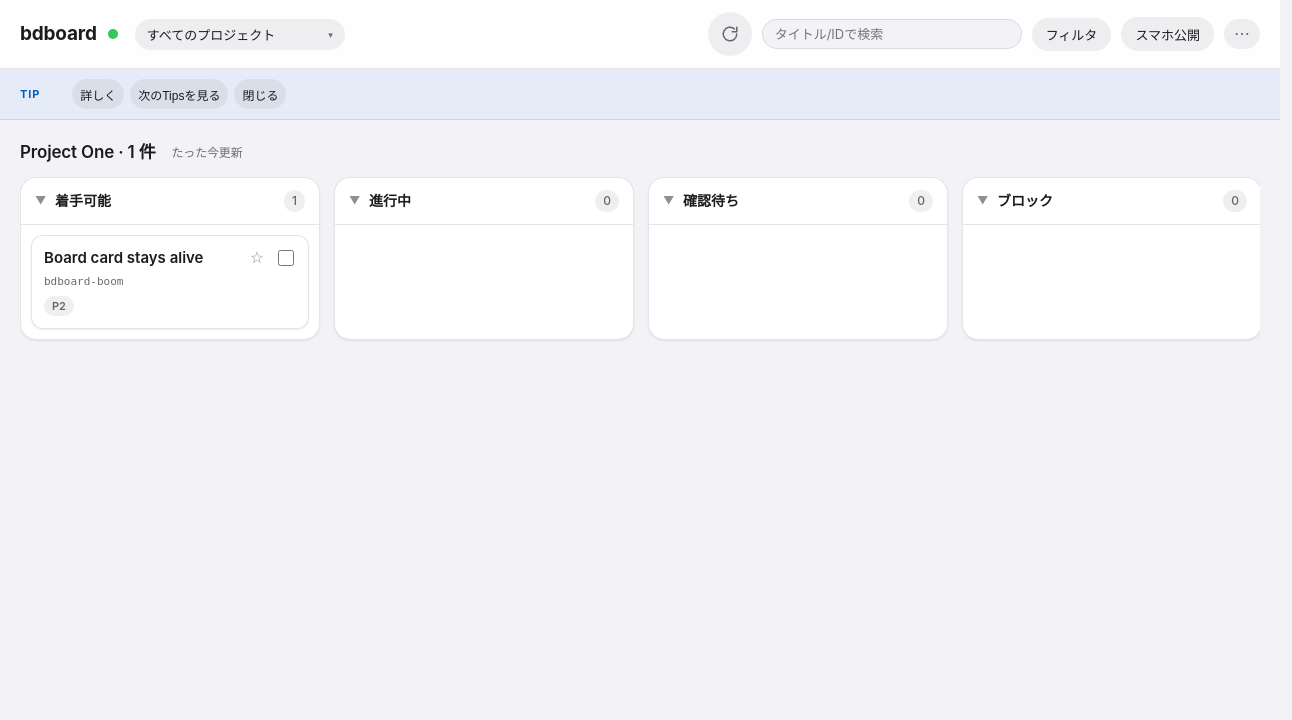
Scenario: App bulk action bar visibility (bdboard-ml0k) › keeps the bar out of the 設定 view, which renders no cards
Click the checkbox named "bdboard-boom を選択" at (286, 258), box [278,250,294,266]
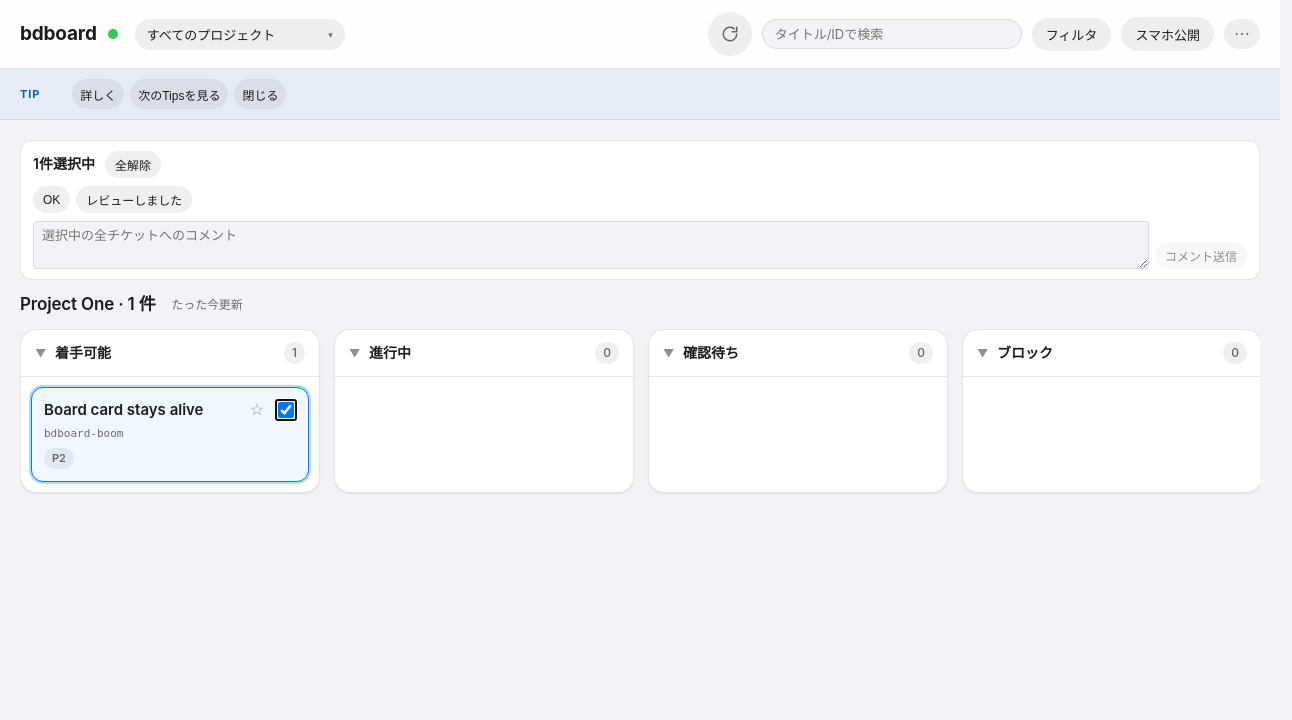
expect the text "1件選択中" is shown: met, box [33,154,95,175]
Click the button named "その他のメニュー" at (1242, 34), box [1224,19,1260,49]
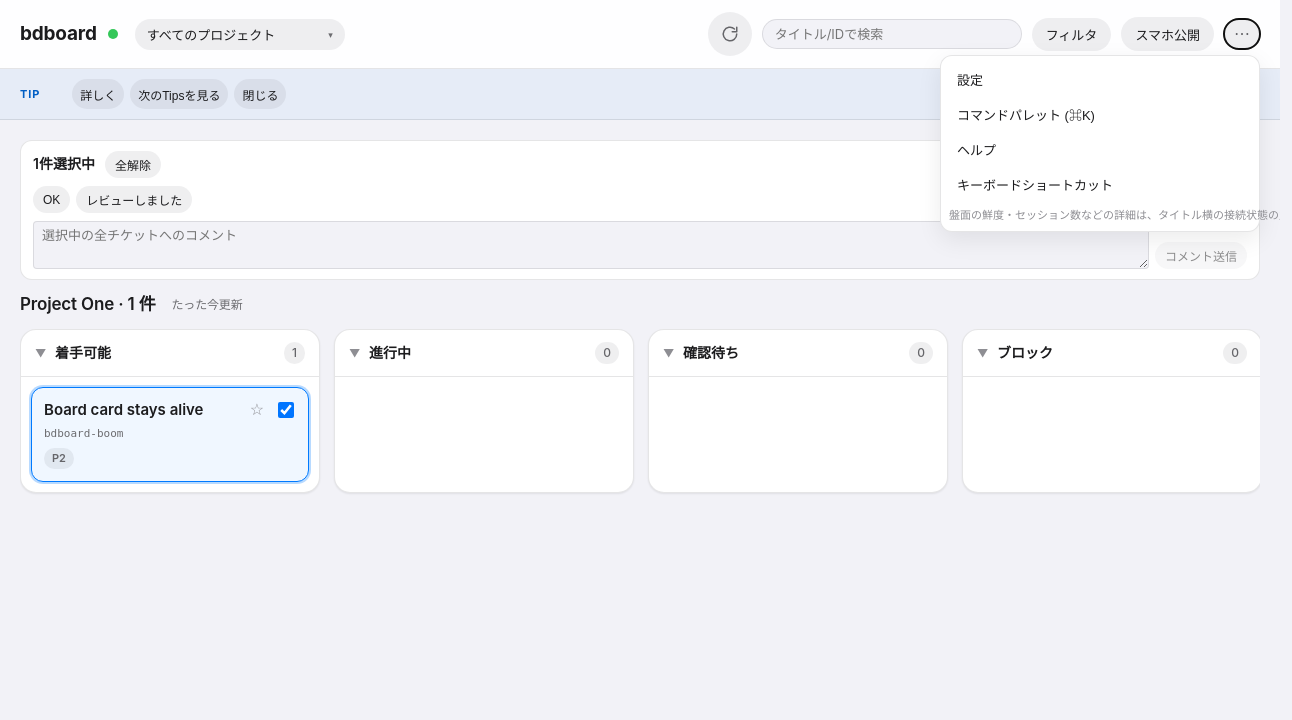
Click the menu item "設定" at (970, 80), box [947,62,1253,97]
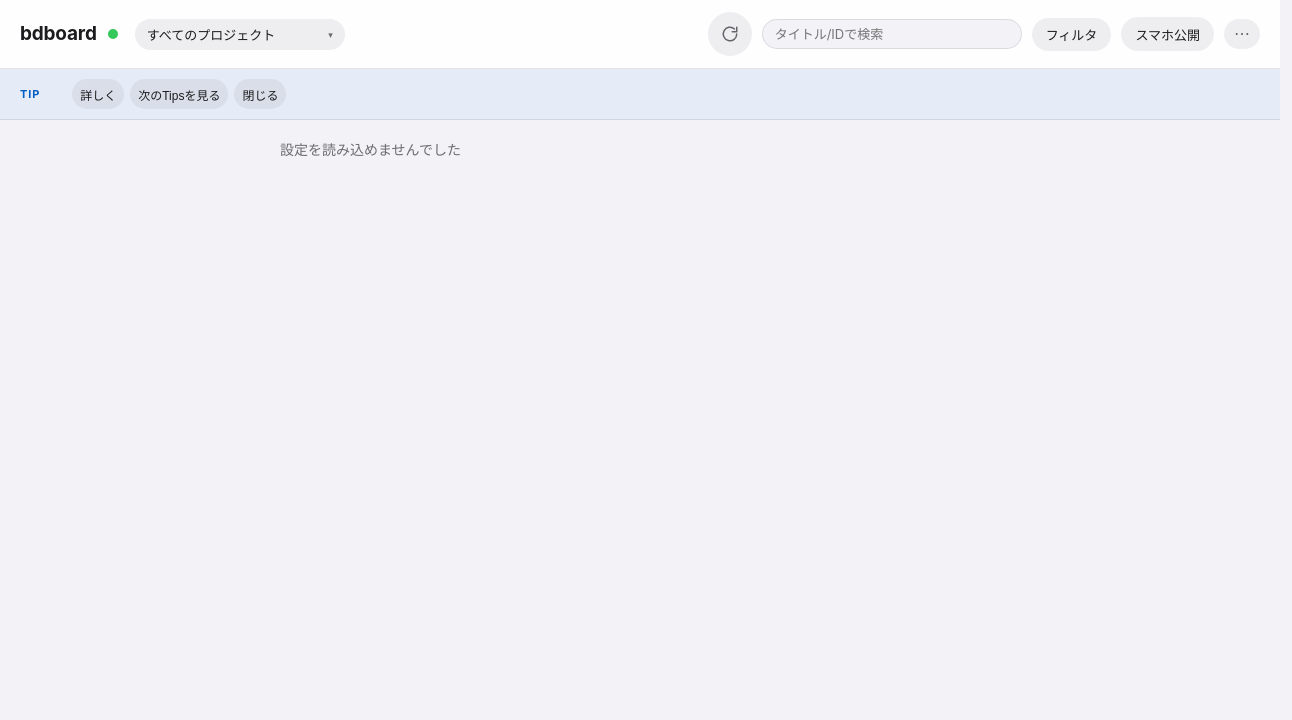
expect the text "1件選択中" is gone: met
